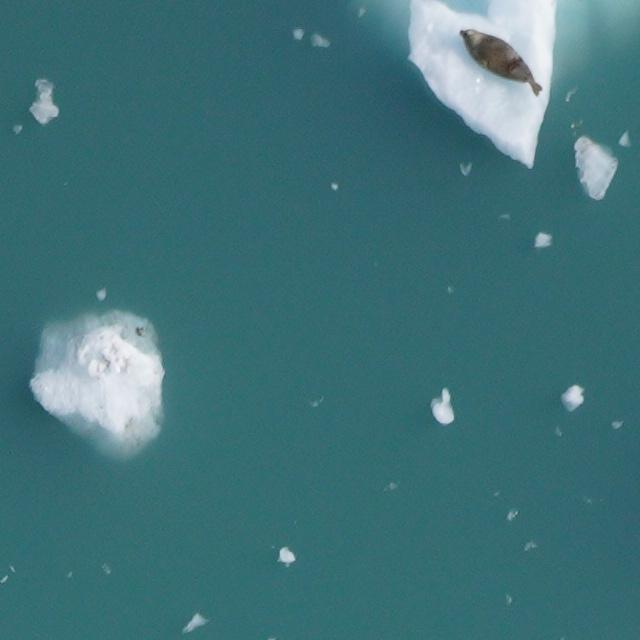seal: (460, 27, 543, 96)
